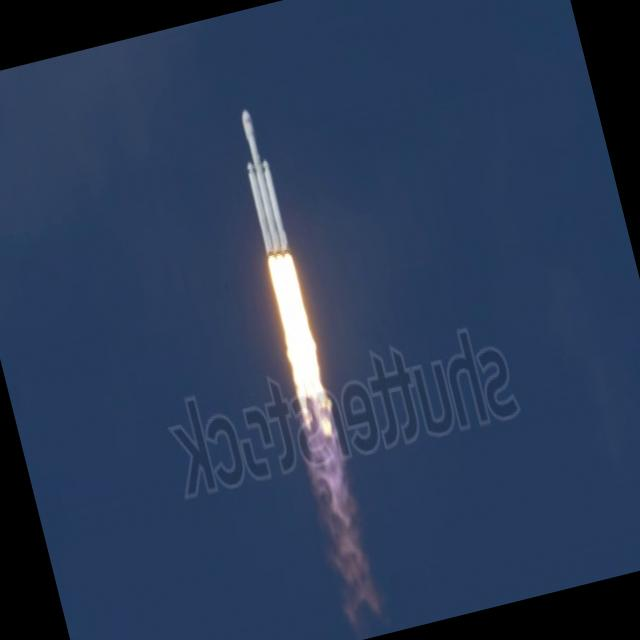rocket: (223, 96, 343, 434)
